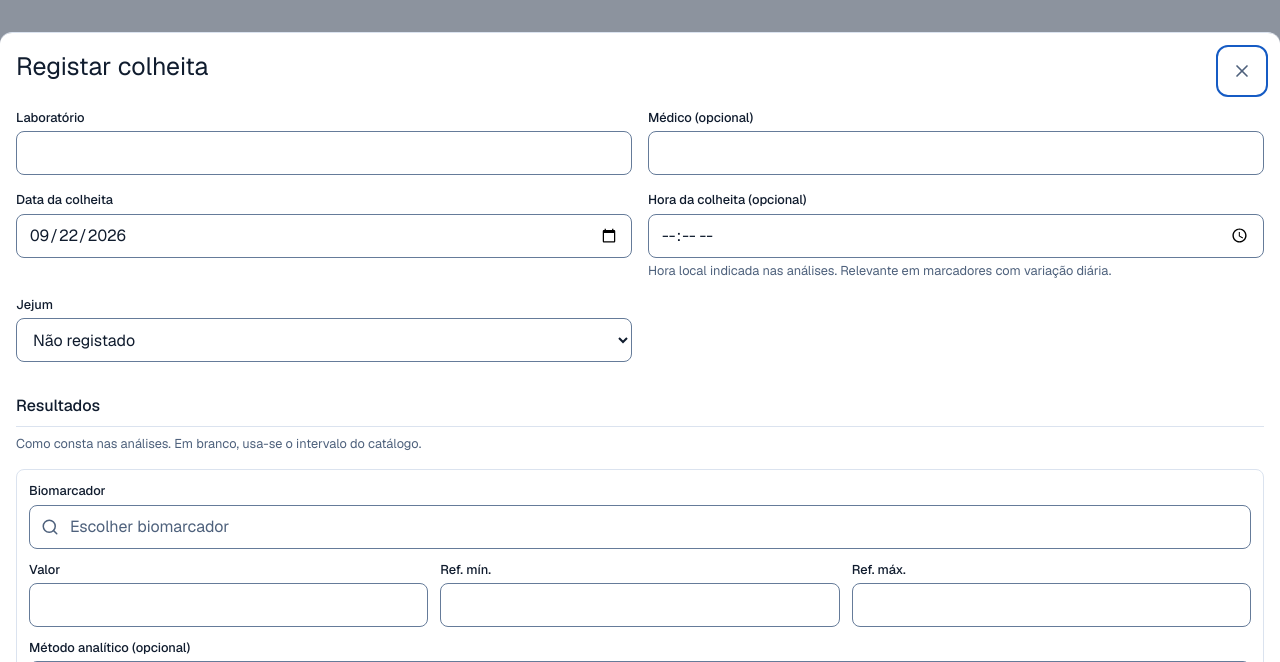
Test: ReportCreate › never suggests the value itself
Type "Synlab Braga" into the field labelled "Laboratório" at (324, 153), box [16,131,632,175]
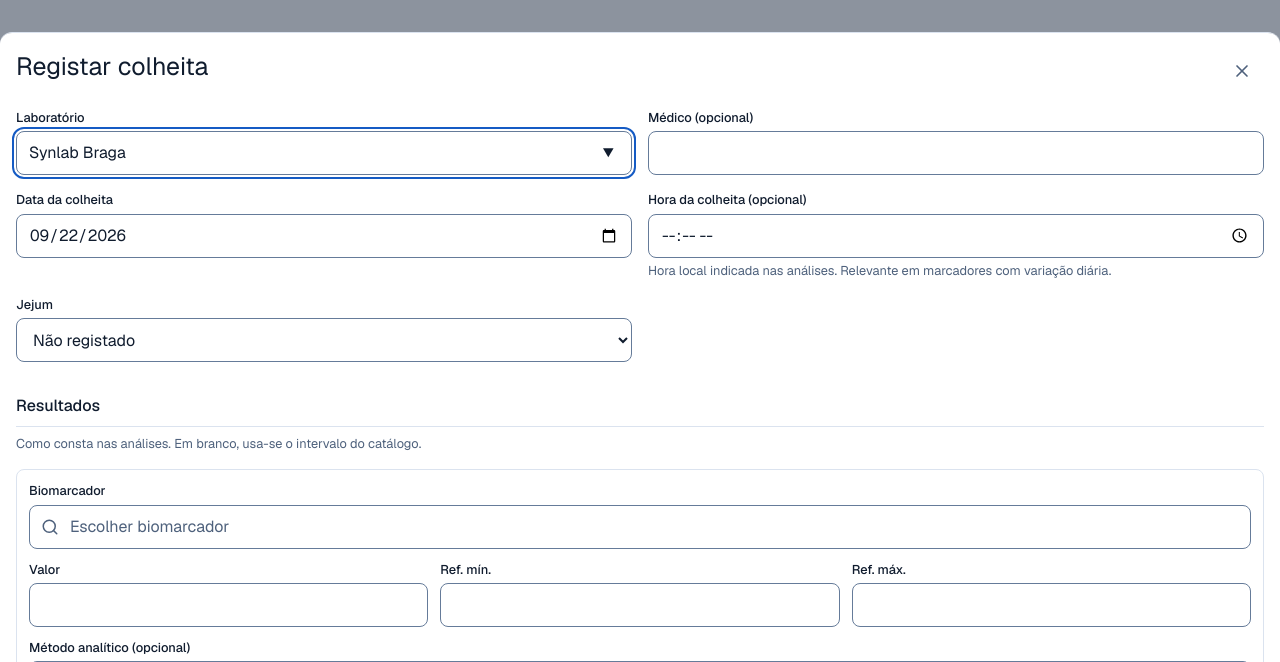
Type "hemo" into the dropdown labelled "Biomarcador" at (640, 527), box [29,505,1251,549]
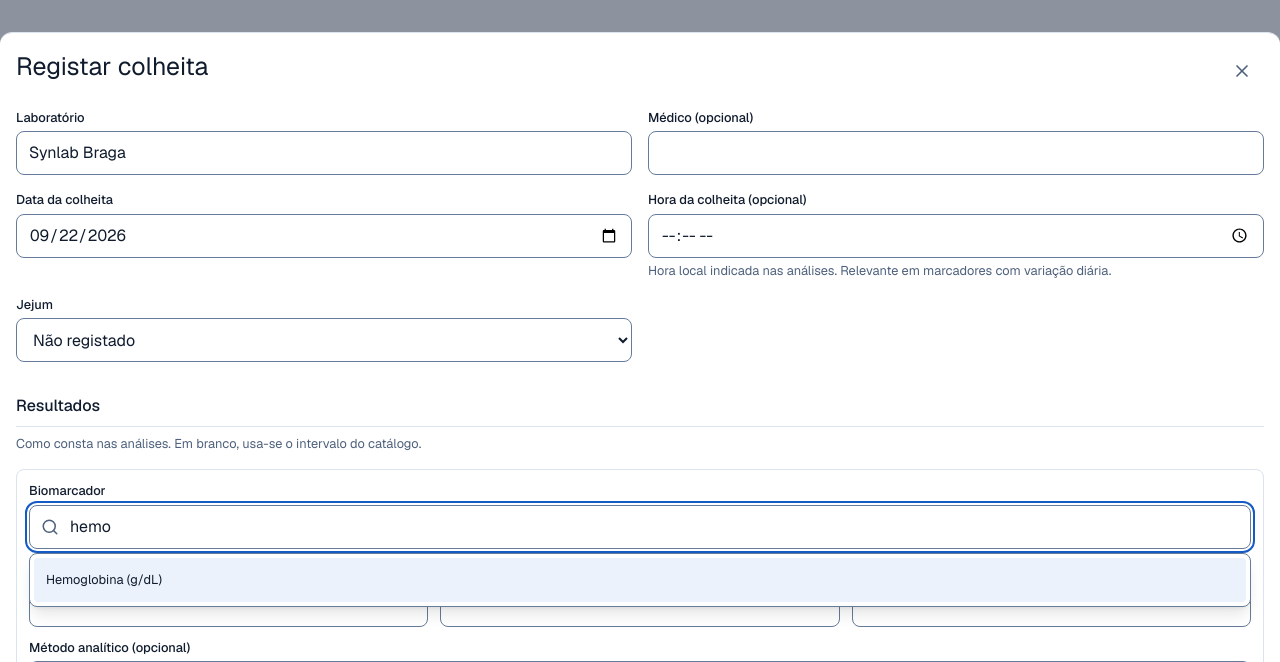
Click the option "Hemoglobina (g/dL)" at (104, 579), box [34,558,1246,602]
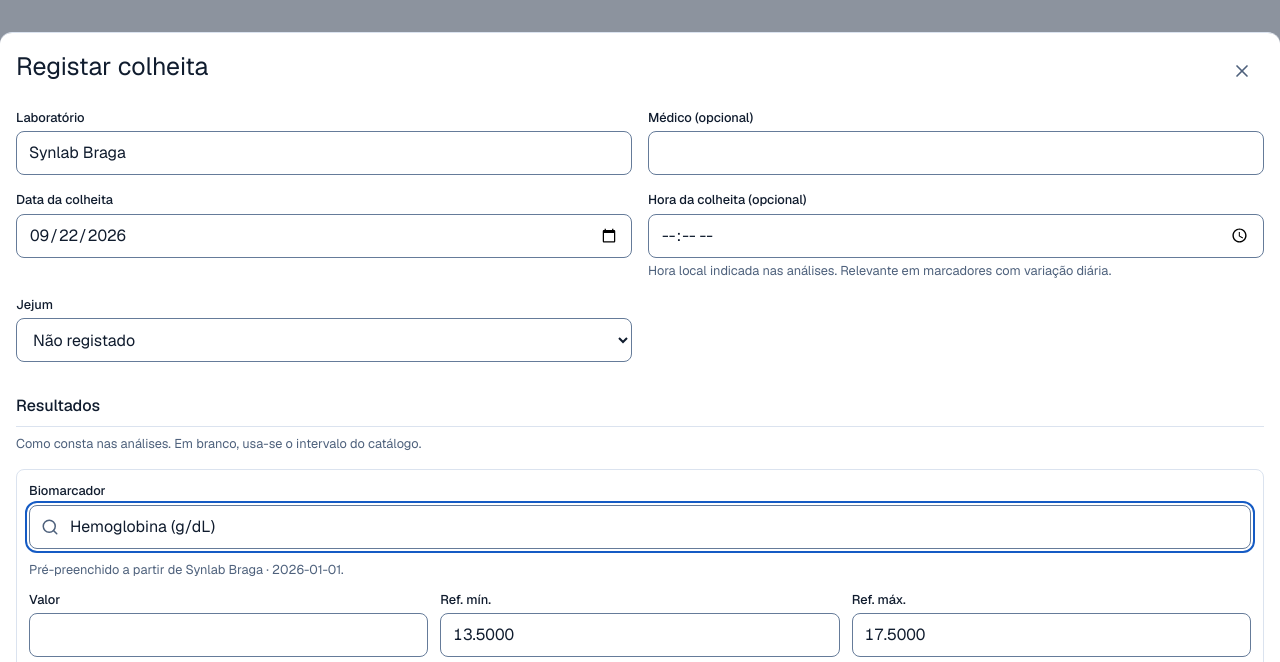
Expected: the field labelled "Valor" is empty, [29,613,428,657]
Expected: the field labelled "Ref. mín." holds "13.5000", [440,613,840,657]
